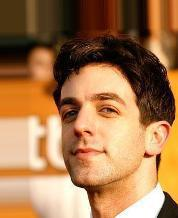face: (60, 96, 119, 162)
